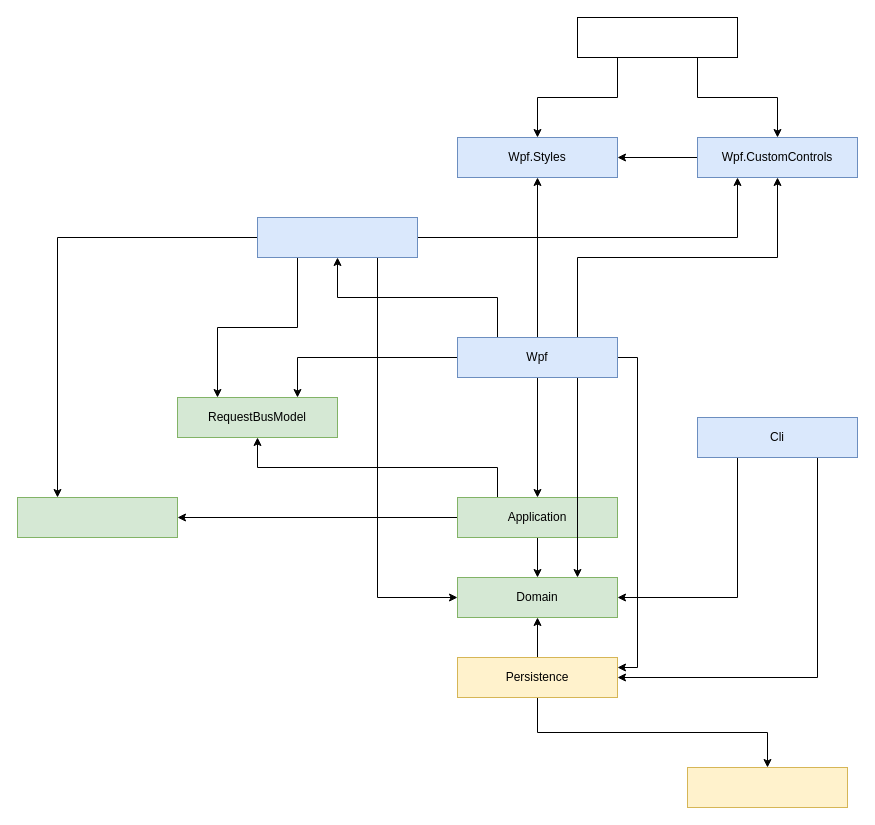
The diagram is 875 pixels wide and 825 high, and some of its shapes have lost their labels. The centre of each missing label's shape, as x and y in pixels:
EventBusModel: point 97,517
Persistence.Json: point 767,787
Wpf.StyleDemo: point 657,37
Wpf.UI: point 337,237
